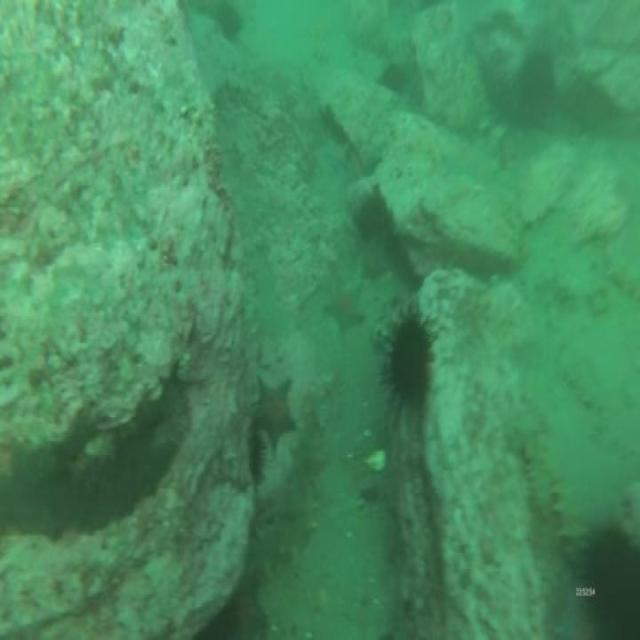echinus: (386, 318, 428, 406), (594, 537, 637, 621), (523, 44, 553, 106), (220, 2, 242, 41), (387, 60, 406, 93)
holothurian: (244, 512, 304, 588), (290, 425, 319, 534), (556, 471, 588, 569), (524, 446, 556, 514)
scallop: (366, 447, 388, 473)
starfish: (254, 376, 299, 446), (330, 270, 365, 337)
